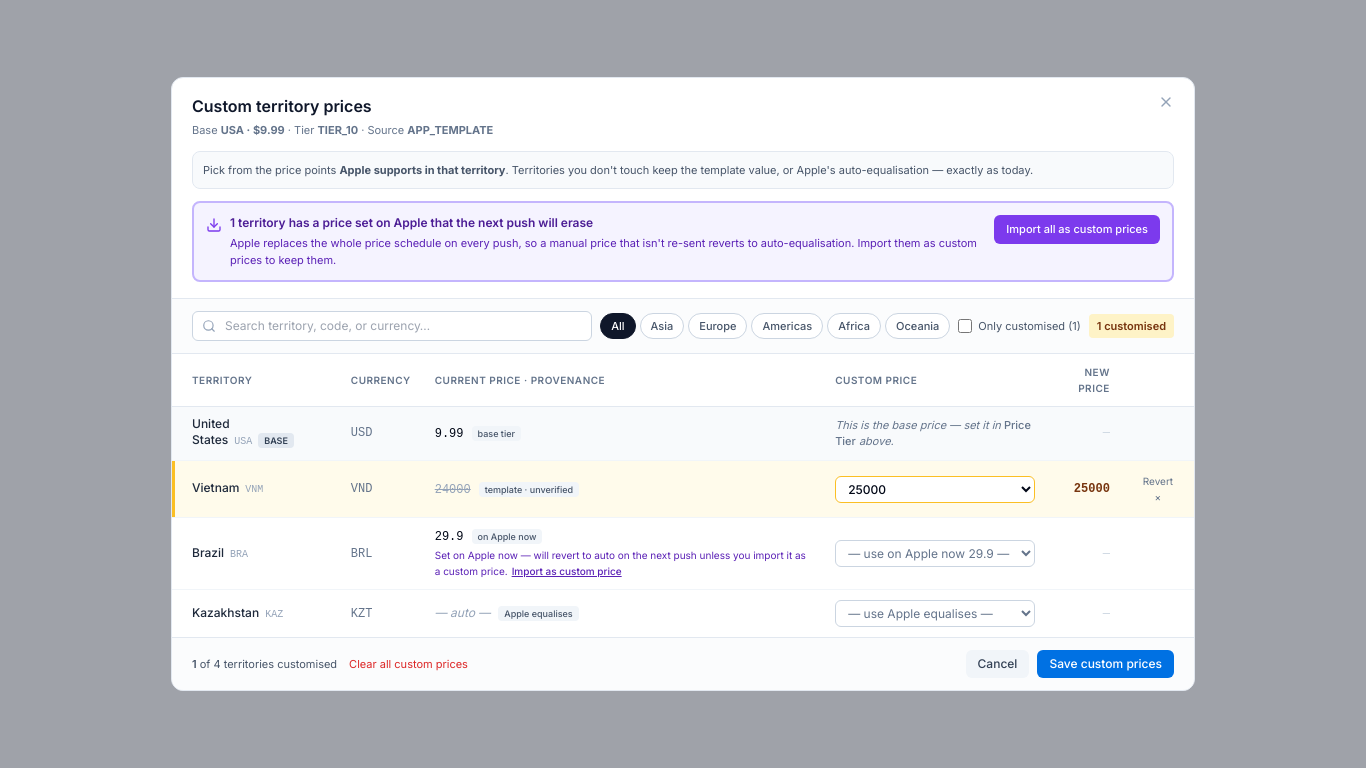
Test case: revertibility — one territory and all › Revert × clears the row
Expected: the text "Vietnam" is shown, [192, 480, 239, 495]
Click the button "Revert ×".
click(1158, 489)  # box [1134, 471, 1182, 507]
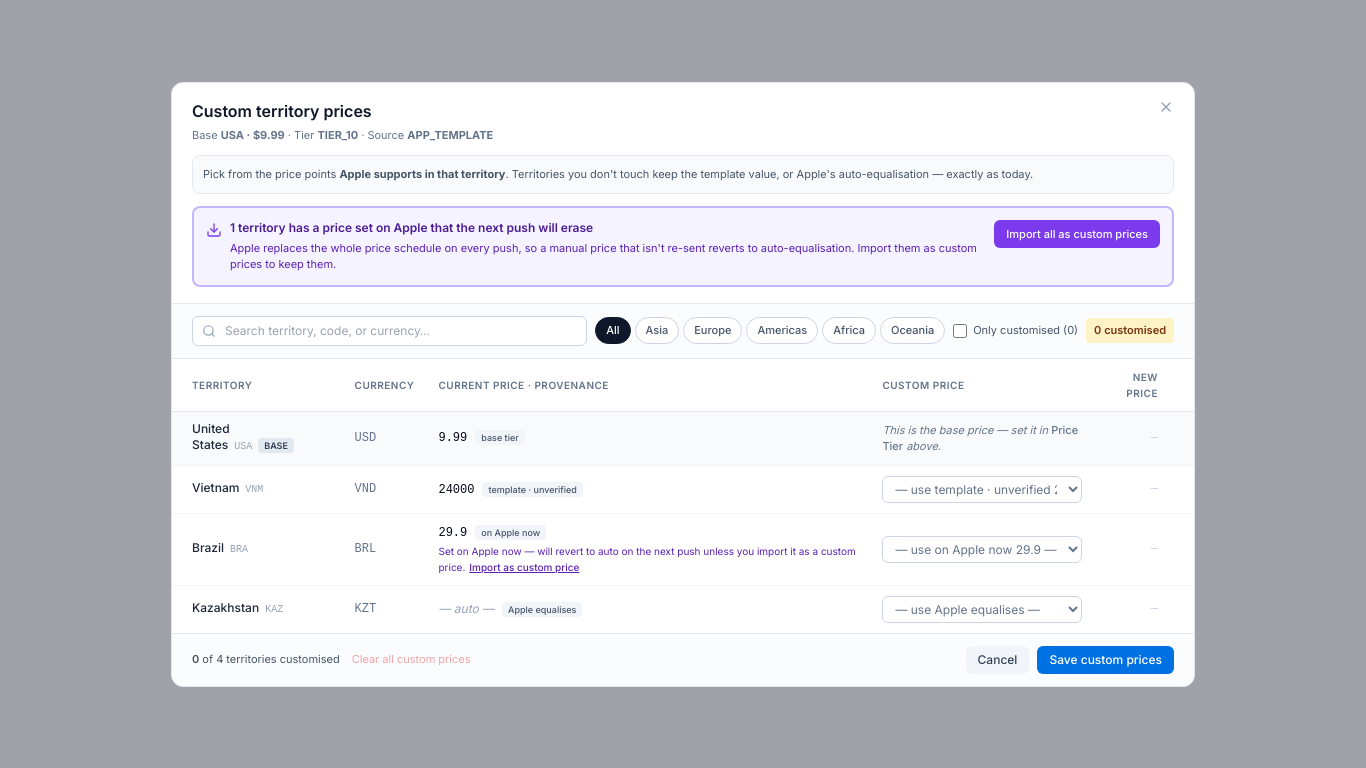
Now the text with test id "custom-prices-changed-count" reads "0 customised", box [1086, 318, 1174, 343]
